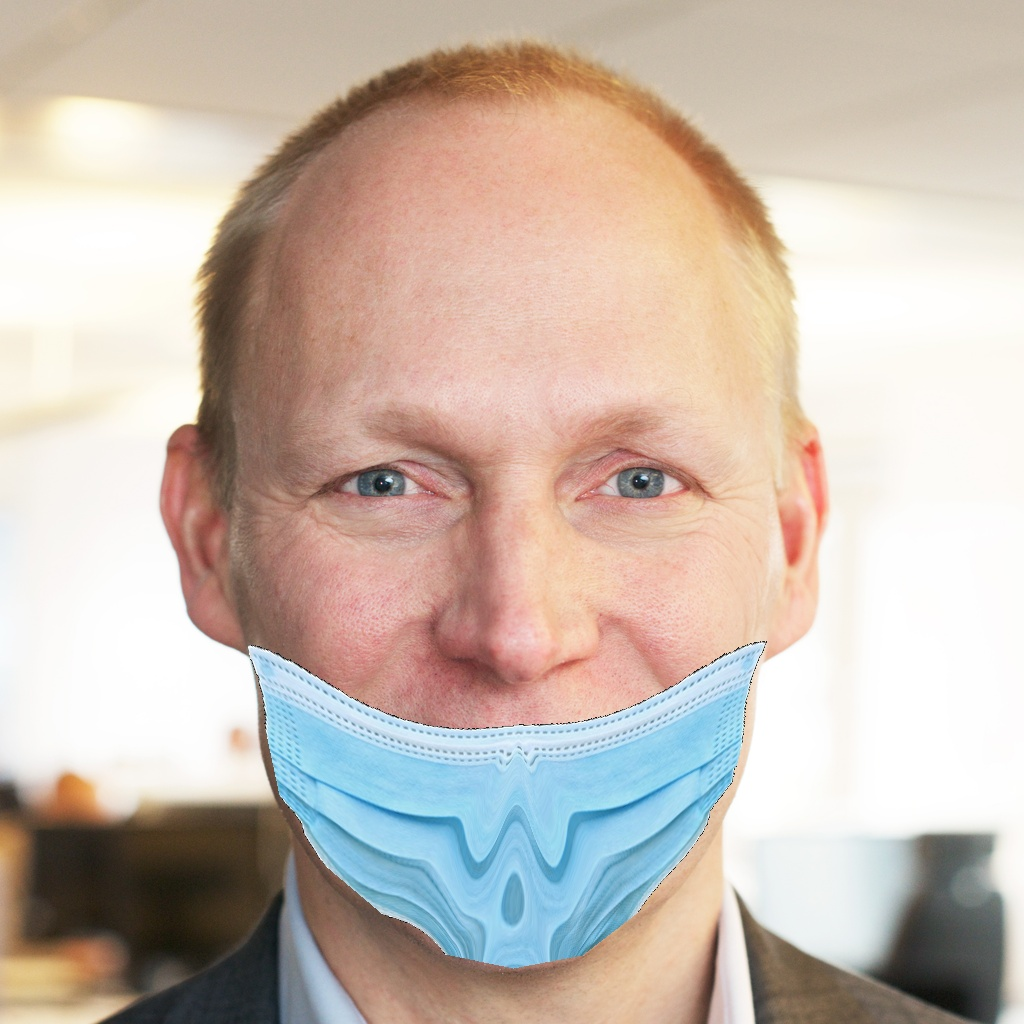mascarilla_mal_puesta: (194, 378, 797, 960)
